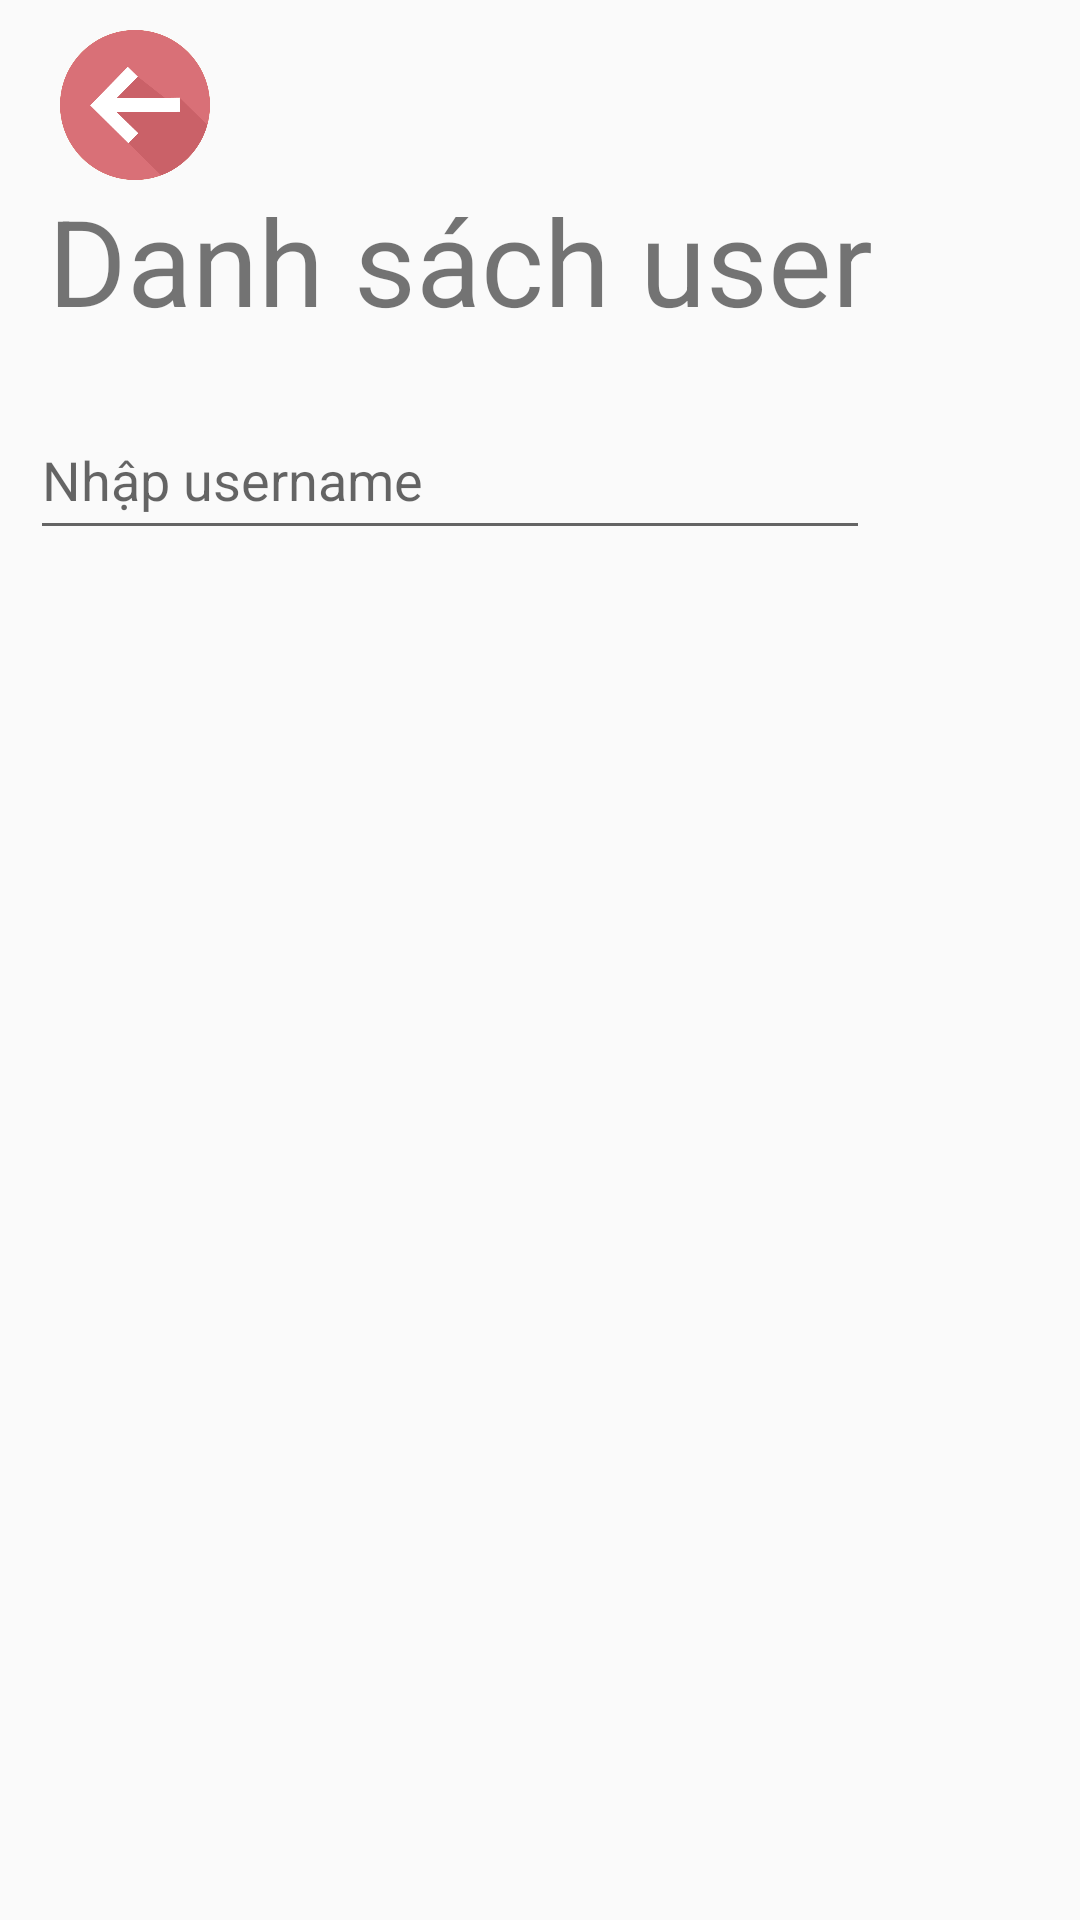

Icon bounding boxes for this 1080 x 1920 phone screenshot, format (x1, y1, x2, y2):
back: (60, 30, 210, 180)
